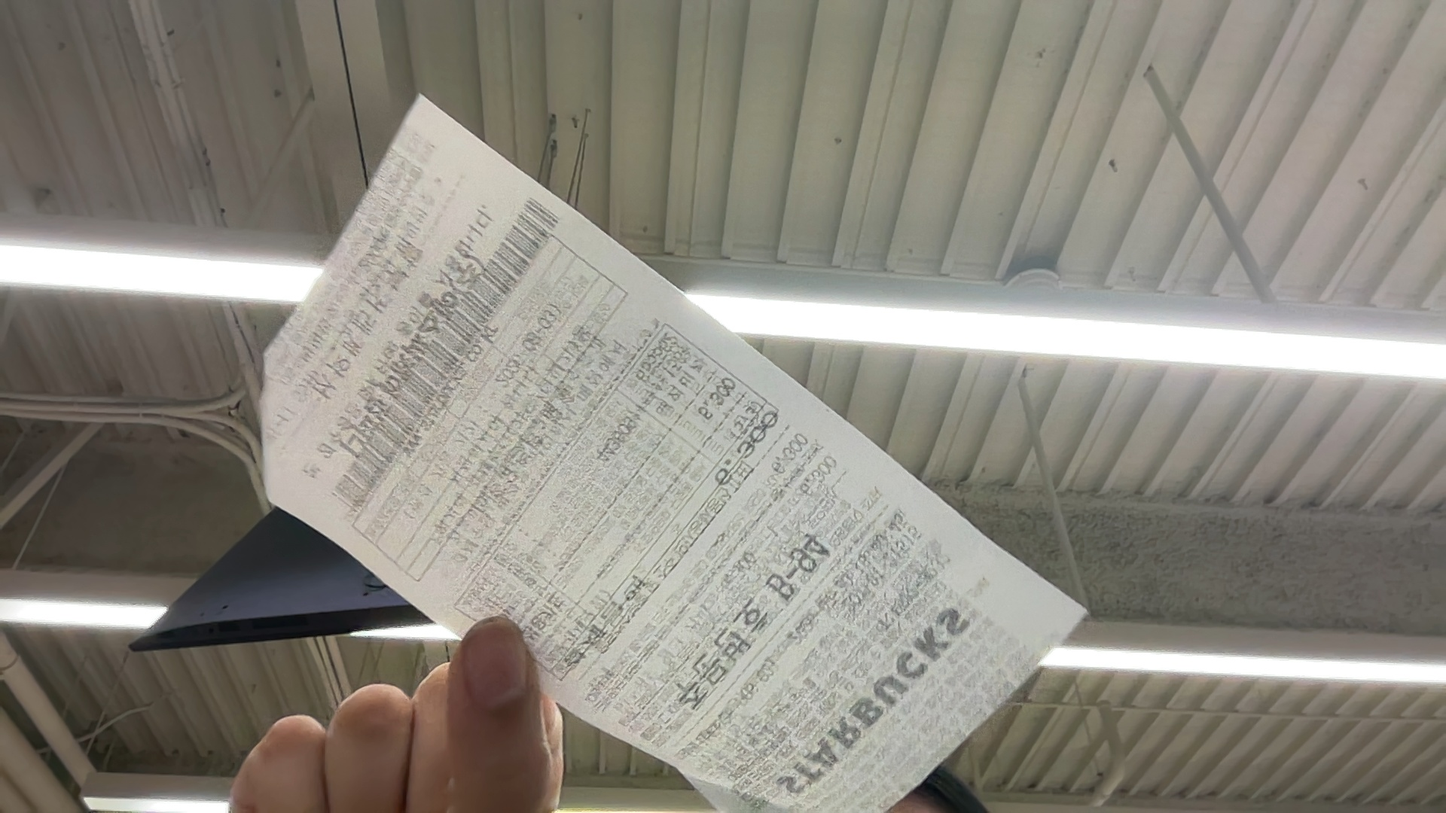Paper: (4, 403, 264, 615)
